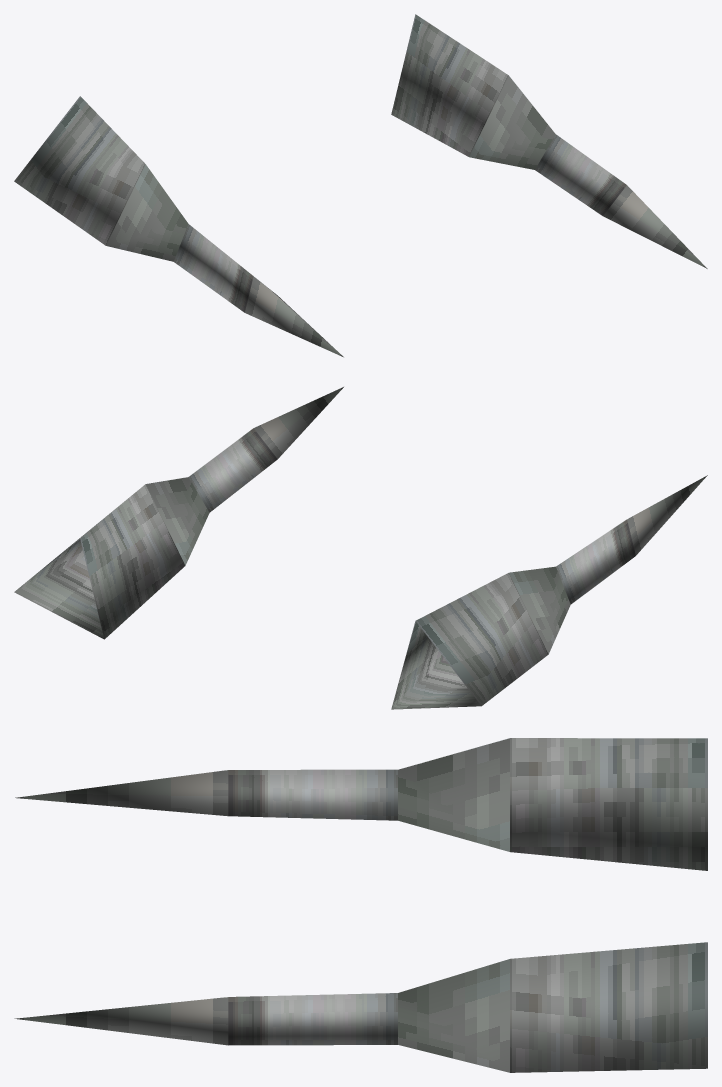
File: ywing_weapon1_s05_l3.fbx
The picture shows the model from 3 angles, top to bottom: view 1: azimuth 30°, elevation 25°; view 2: azimuth 150°, elevation 25°; view 3: azimuth 270°, elevation 25°; orthographic projection. The views are drawn at different scales.
Visible parts, largest first — view 1: mesh_node; view 2: mesh_node; view 3: mesh_node.
Part boxes in pixels (<box>): mesh_node: <box>14,14,707,357</box>; mesh_node: <box>14,387,707,709</box>; mesh_node: <box>14,738,707,1072</box>.
Bounding box in the file's own units: 1.28 × 0.2471 × 1.32.
Materials: 1 (1 with a texture image).
